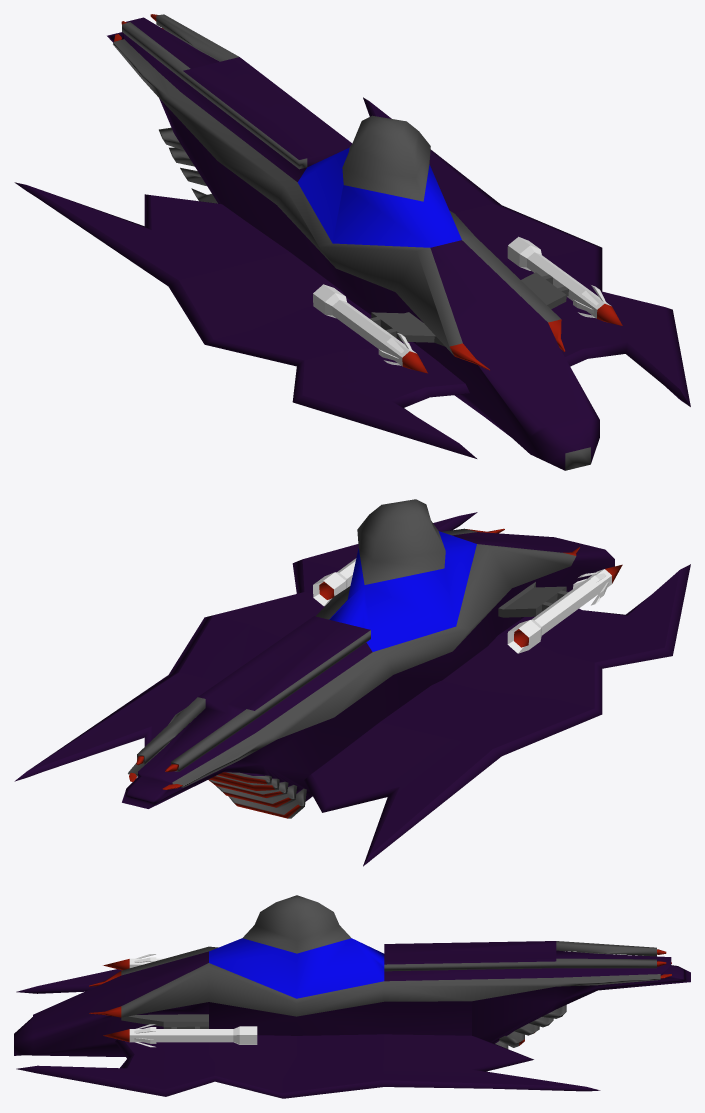
File: EnemySpaceship.fbx
The picture shows the model from 3 angles, top to bottom: view 1: azimuth 30°, elevation 25°; view 2: azimuth 150°, elevation 25°; view 3: azimuth 270°, elevation 25°; orthographic projection. The views are drawn at different scales.
Parts seen in each view (by area): view 1: canopy4; view 2: canopy4; view 3: canopy4.
Boxes of the visible parts, left/top/right/bottom form: canopy4: left=14, top=14, right=690, bottom=470; canopy4: left=14, top=499, right=690, bottom=866; canopy4: left=14, top=895, right=690, bottom=1098.
Size of the model in its own units: 13.83 by 6.93 by 27.57.
